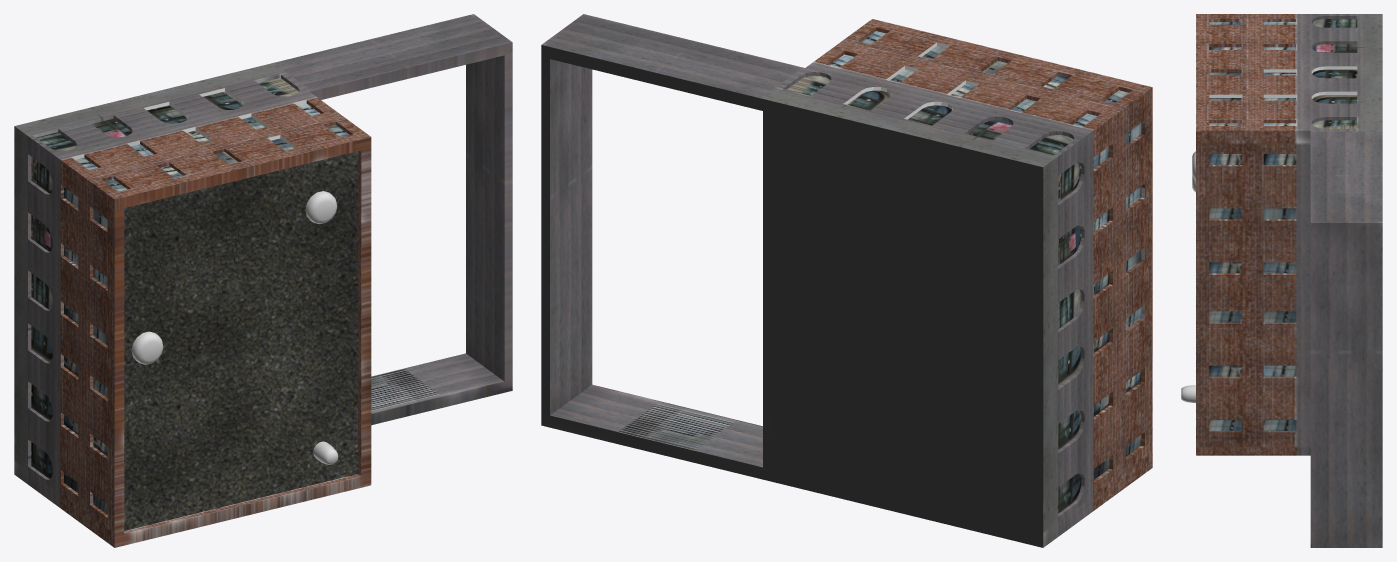
Rendered from 10082_Police Station_V1_L3.obj.
3 renders of one model, left to right at view 1: azimuth 30°, elevation 25°; view 2: azimuth 150°, elevation 25°; view 3: azimuth 270°, elevation 25°, orthographic. The views are drawn at different scales.
Visible parts, largest first — view 1: 10082_Police_Station_V1_Max2008; view 2: 10082_Police_Station_V1_Max2008; view 3: 10082_Police_Station_V1_Max2008.
Part boxes in pixels (box(x1,y1,x2,y2)): 10082_Police_Station_V1_Max2008: box(14, 14, 512, 547); 10082_Police_Station_V1_Max2008: box(541, 14, 1152, 547); 10082_Police_Station_V1_Max2008: box(1181, 14, 1382, 547).
Bounding box in the file's own units: 2136 × 1596 × 871.
1 material, 1 textured.
